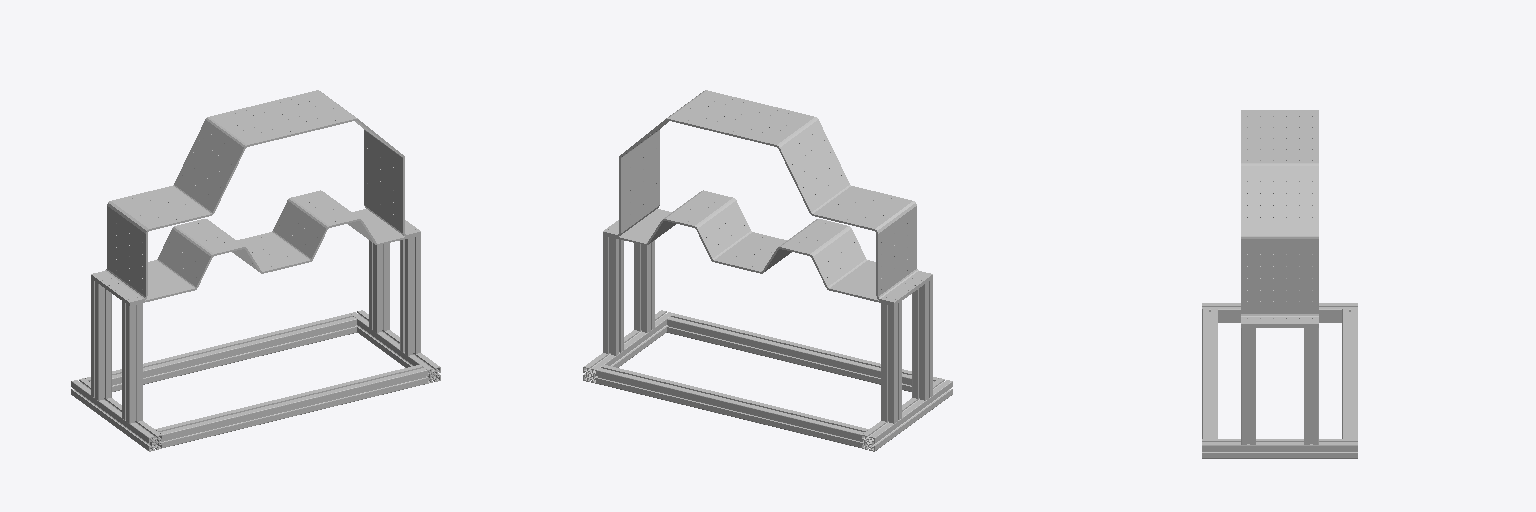
The model's file is sample_jig_scaled.obj.
3 renders of one model, left to right at view 1: azimuth 30°, elevation 25°; view 2: azimuth 150°, elevation 25°; view 3: azimuth 270°, elevation 25°, orthographic.
Parts seen in each view (by area): view 1: sample_jig; view 2: sample_jig; view 3: sample_jig.
Part boxes in pixels (x1,y1,x2,y2): sample_jig: (71, 90, 440, 451); sample_jig: (583, 90, 952, 451); sample_jig: (1202, 110, 1357, 458).
Bounding box in the file's own units: 1.3 × 1.12 × 0.6.